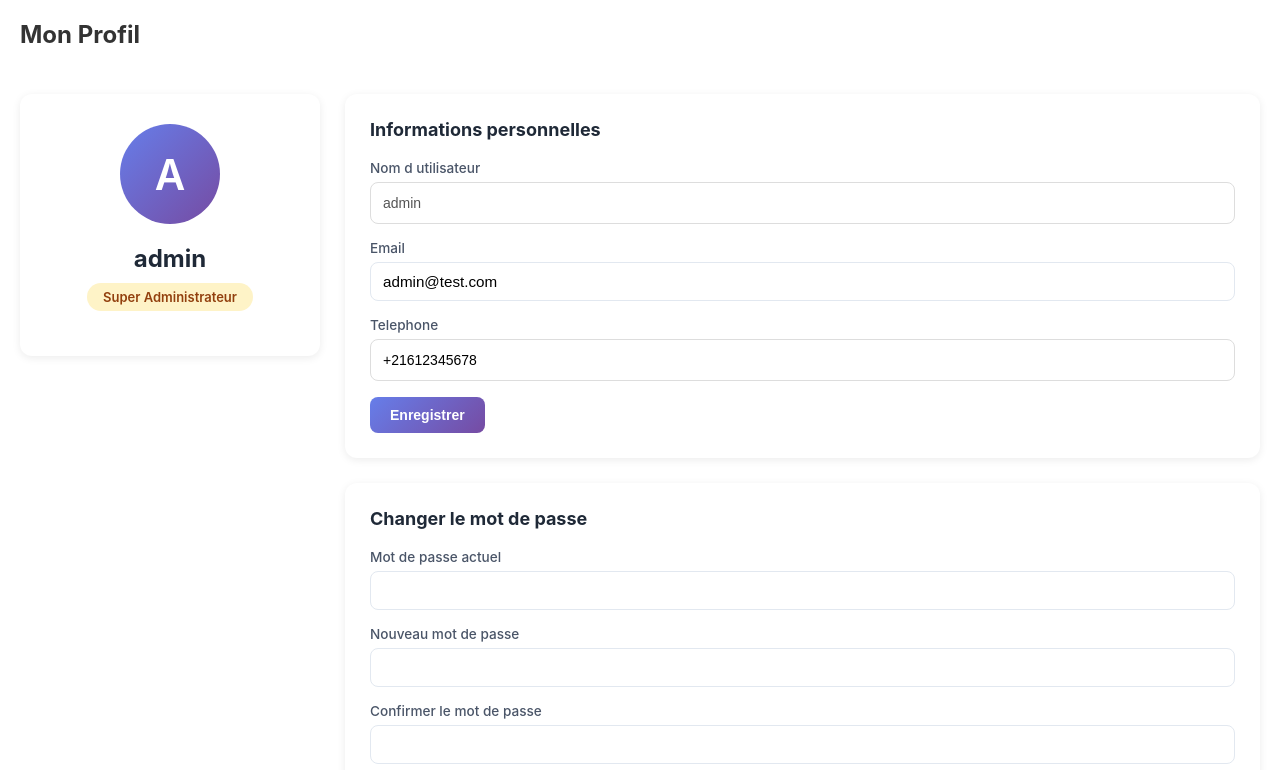
Test: Profile › handles profile update network error
Check: the field showing "admin@test.com" below "Email" is shown, box [370,262,1235,301]
Click the button "Enregistrer" at (427,415), box [370,397,485,433]
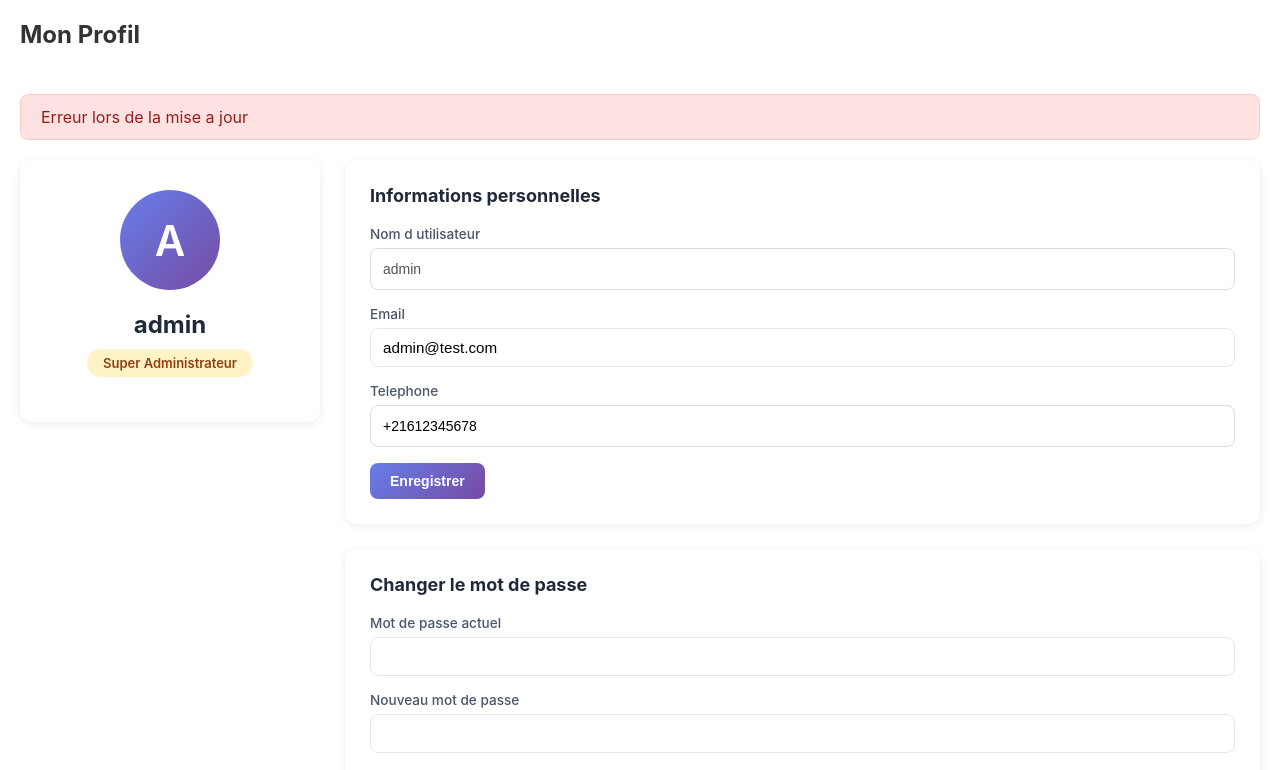
Check: the text "Erreur lors de la mise a jour" is shown, box [20,94,1260,140]
